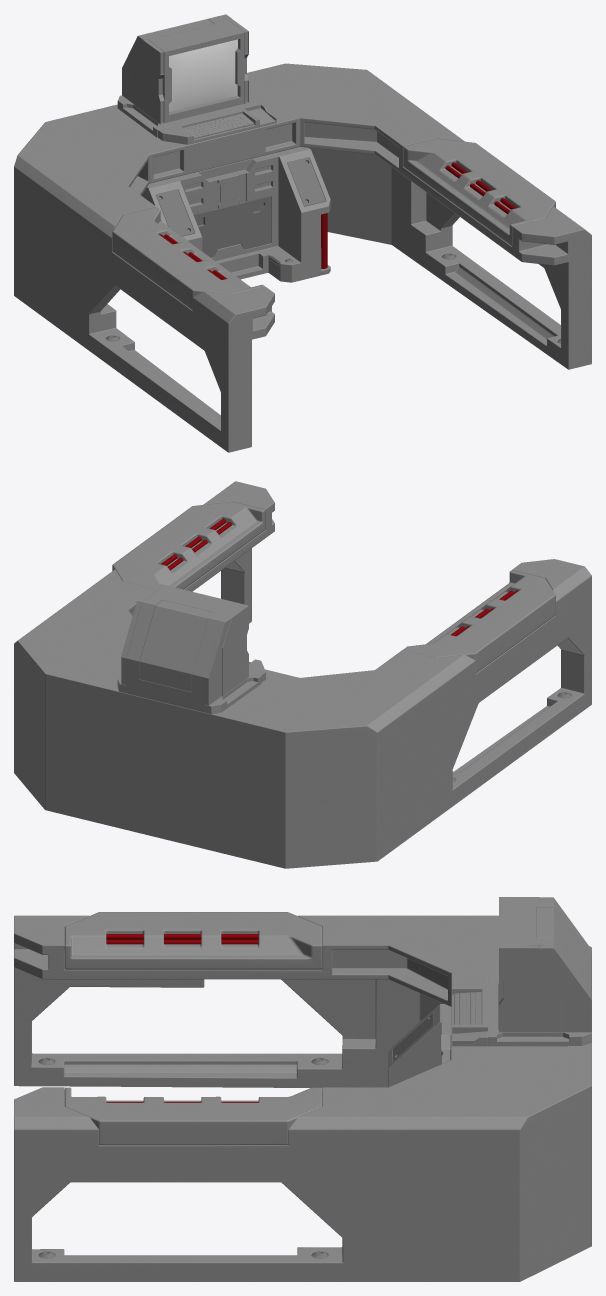
The model's file is Ship_Room_Main_CCT_001_v001.fbx.
The picture shows the model from 3 angles, top to bottom: view 1: azimuth 30°, elevation 25°; view 2: azimuth 150°, elevation 25°; view 3: azimuth 270°, elevation 25°; orthographic projection. The views are drawn at different scales.
Visible parts, largest first — view 1: Ship_Room_Main_CCT_Desk_001, Ship_Room_Main_CCT_Desk_Arms_001, Ship_Room_Main_CCT_Desktop_001, Ship_Room_Main_CCT_Monitor_001, Ship_Room_Main_CCT_Screen_001, Ship_Room_Main_CCT_Desktop_BigPanel_001, Ship_Room_Main_CCT_Monitor_SidePanels_001, Ship_Room_Main_CCT_Desktop_Panels_001, Ship_Room_Main_CCT_Pipes_001, Ship_Room_Main_CCT_Keyboard_001, Ship_Room_Main_CCT_MousePad_001, Ship_Room_Main_CCT_Monitor_SideBackPanels_001; view 2: Ship_Room_Main_CCT_Desk_001, Ship_Room_Main_CCT_Desk_Arms_001, Ship_Room_Main_CCT_Monitor_001, Ship_Room_Main_CCT_Monitor_BackPanels_001, Ship_Room_Main_CCT_Monitor_SidePanels_001, Ship_Room_Main_CCT_Monitor_SideBackPanels_001, Ship_Room_Main_CCT_Pipes_001; view 3: Ship_Room_Main_CCT_Desk_001, Ship_Room_Main_CCT_Desk_Arms_001, Ship_Room_Main_CCT_Monitor_001, Ship_Room_Main_CCT_Monitor_SidePanels_001, Ship_Room_Main_CCT_Desktop_001, Ship_Room_Main_CCT_Monitor_SideBackPanels_001, Ship_Room_Main_CCT_Monitor_BackPanels_001, Ship_Room_Main_CCT_Pipes_001, Ship_Room_Main_CCT_Keyboard_001, Ship_Room_Main_CCT_MousePad_001, Ship_Room_Main_CCT_Desktop_Panels_001.
Part boxes in pixels (x1=…): Ship_Room_Main_CCT_Desk_001: x1=14, y1=63, x2=591, y2=452; Ship_Room_Main_CCT_Desk_Arms_001: x1=112, y1=138, x2=555, y2=310; Ship_Room_Main_CCT_Desktop_001: x1=141, y1=147, x2=330, y2=282; Ship_Room_Main_CCT_Monitor_001: x1=117, y1=15, x2=261, y2=144; Ship_Room_Main_CCT_Screen_001: x1=169, y1=39, x2=237, y2=112; Ship_Room_Main_CCT_Desktop_BigPanel_001: x1=193, y1=196, x2=271, y2=257; Ship_Room_Main_CCT_Monitor_SidePanels_001: x1=134, y1=19, x2=248, y2=124; Ship_Room_Main_CCT_Desktop_Panels_001: x1=156, y1=157, x2=325, y2=236; Ship_Room_Main_CCT_Pipes_001: x1=159, y1=162, x2=516, y2=279; Ship_Room_Main_CCT_Keyboard_001: x1=183, y1=113, x2=254, y2=139; Ship_Room_Main_CCT_MousePad_001: x1=157, y1=104, x2=276, y2=144; Ship_Room_Main_CCT_Monitor_SideBackPanels_001: x1=122, y1=14, x2=231, y2=103; Ship_Room_Main_CCT_Desk_001: x1=14, y1=481, x2=591, y2=868; Ship_Room_Main_CCT_Desk_Arms_001: x1=112, y1=501, x2=555, y2=673; Ship_Room_Main_CCT_Monitor_001: x1=117, y1=585, x2=261, y2=714; Ship_Room_Main_CCT_Monitor_BackPanels_001: x1=139, y1=600, x2=214, y2=691; Ship_Room_Main_CCT_Monitor_SidePanels_001: x1=143, y1=584, x2=248, y2=696; Ship_Room_Main_CCT_Monitor_SideBackPanels_001: x1=121, y1=596, x2=231, y2=705; Ship_Room_Main_CCT_Pipes_001: x1=161, y1=518, x2=518, y2=636; Ship_Room_Main_CCT_Desk_001: x1=14, y1=915, x2=591, y2=1281; Ship_Room_Main_CCT_Desk_Arms_001: x1=64, y1=912, x2=322, y2=1145; Ship_Room_Main_CCT_Monitor_001: x1=452, y1=899, x2=591, y2=1046; Ship_Room_Main_CCT_Monitor_SidePanels_001: x1=499, y1=897, x2=561, y2=1032; Ship_Room_Main_CCT_Desktop_001: x1=387, y1=1004, x2=451, y2=1087; Ship_Room_Main_CCT_Monitor_SideBackPanels_001: x1=539, y1=897, x2=591, y2=1032; Ship_Room_Main_CCT_Monitor_BackPanels_001: x1=536, y1=907, x2=591, y2=989; Ship_Room_Main_CCT_Pipes_001: x1=106, y1=934, x2=258, y2=1102; Ship_Room_Main_CCT_Keyboard_001: x1=454, y1=992, x2=481, y2=1024; Ship_Room_Main_CCT_MousePad_001: x1=452, y1=977, x2=487, y2=1046; Ship_Room_Main_CCT_Desktop_Panels_001: x1=392, y1=1012, x2=433, y2=1061.
Size of the model in its own units: 300 by 170 by 350.
